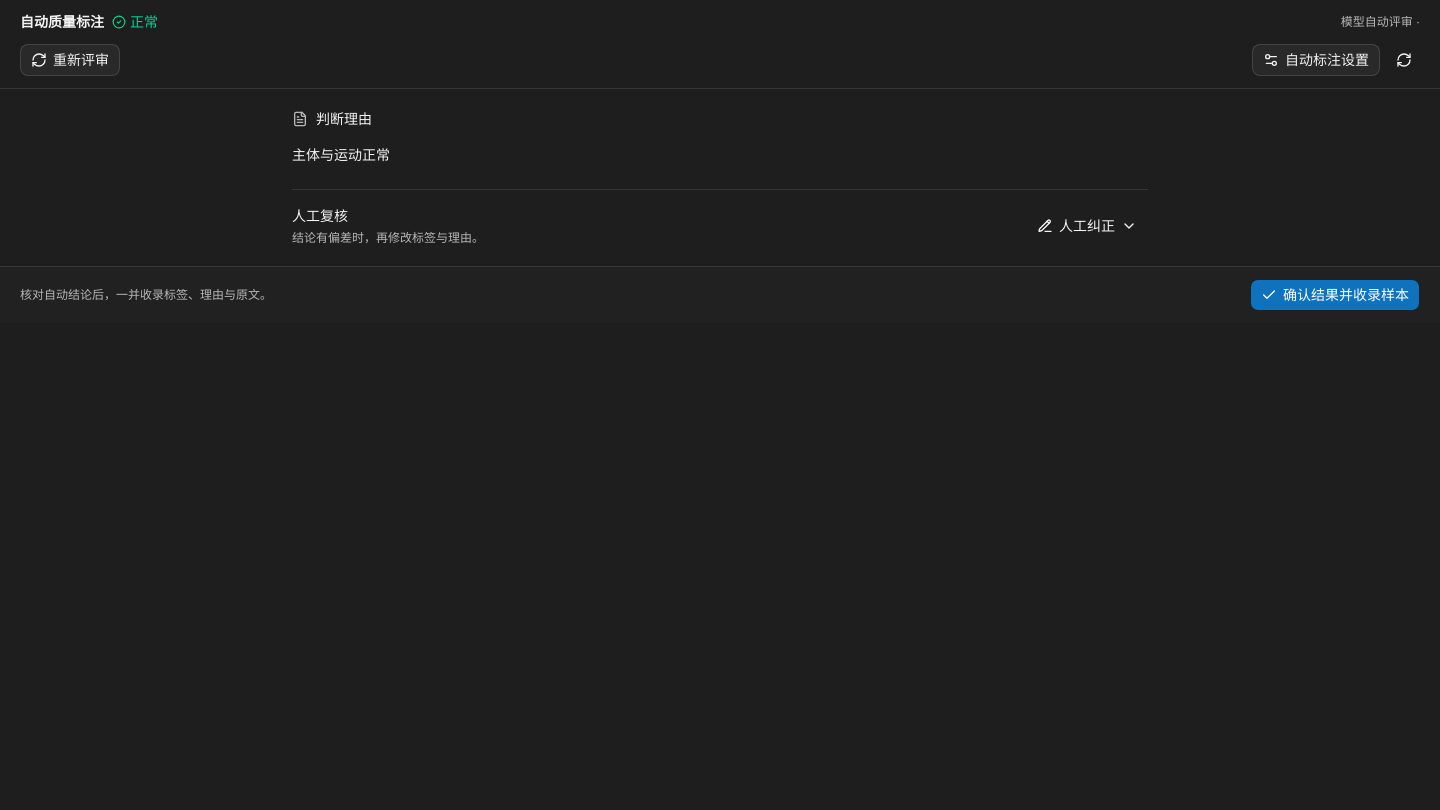
it: 确认发生版本冲突时提示重新读取且不显示收录成功
Click the button "确认结果并收录样本" at coordinates (1335, 295), box 1250,279 -> 1420,311
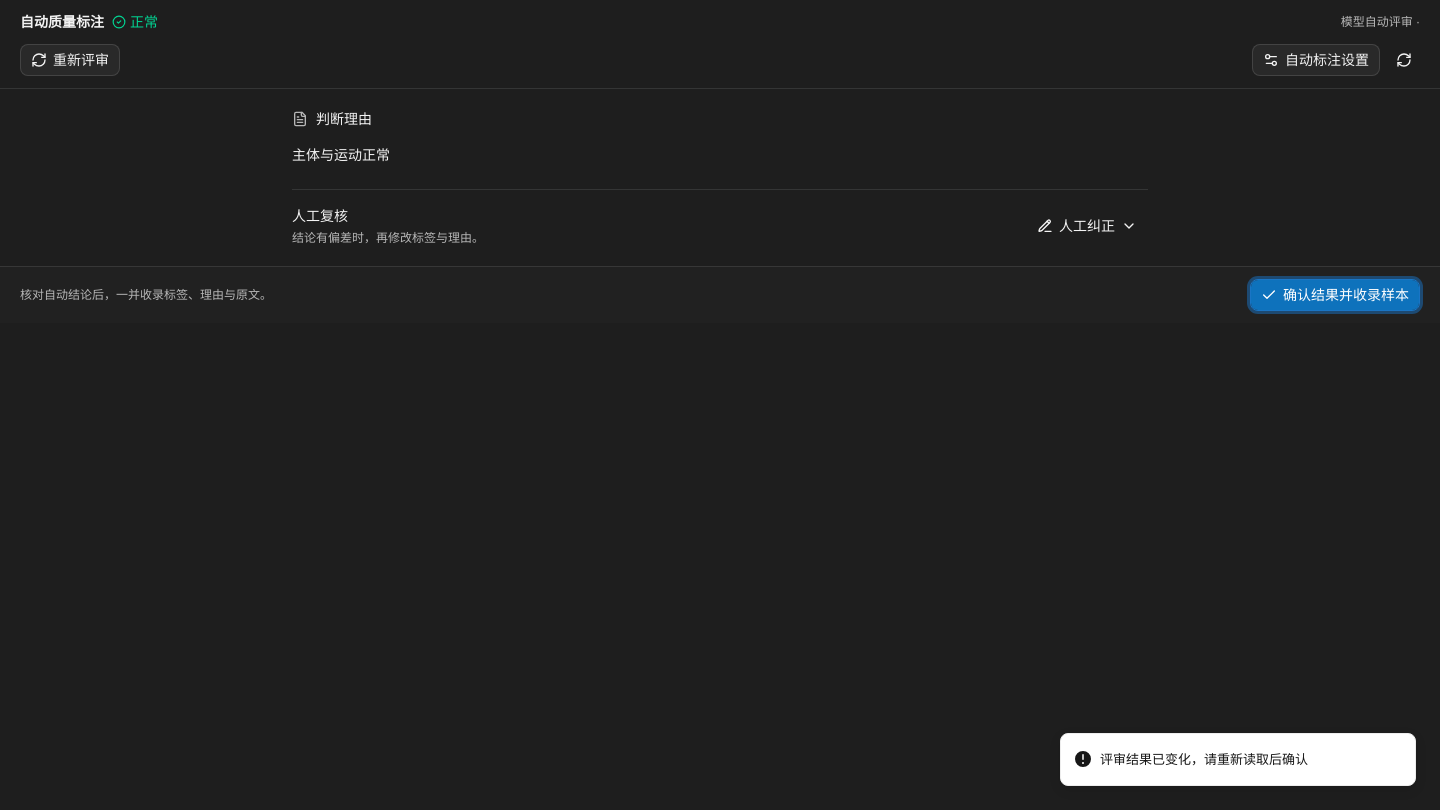
Result: the text "评审结果已变化，请重新读取后确认" is shown at 1100,750 -> 1308,769
